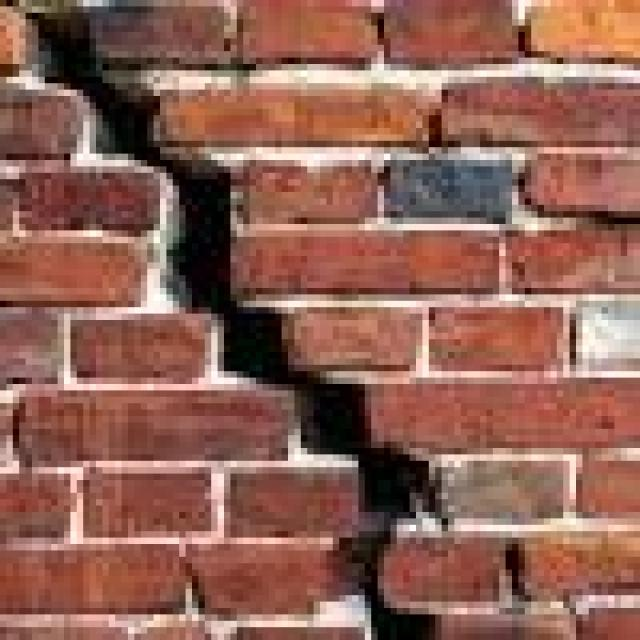Crack: (19, 0, 442, 634)
